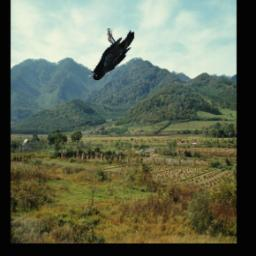Crow: (88, 28, 135, 80)
